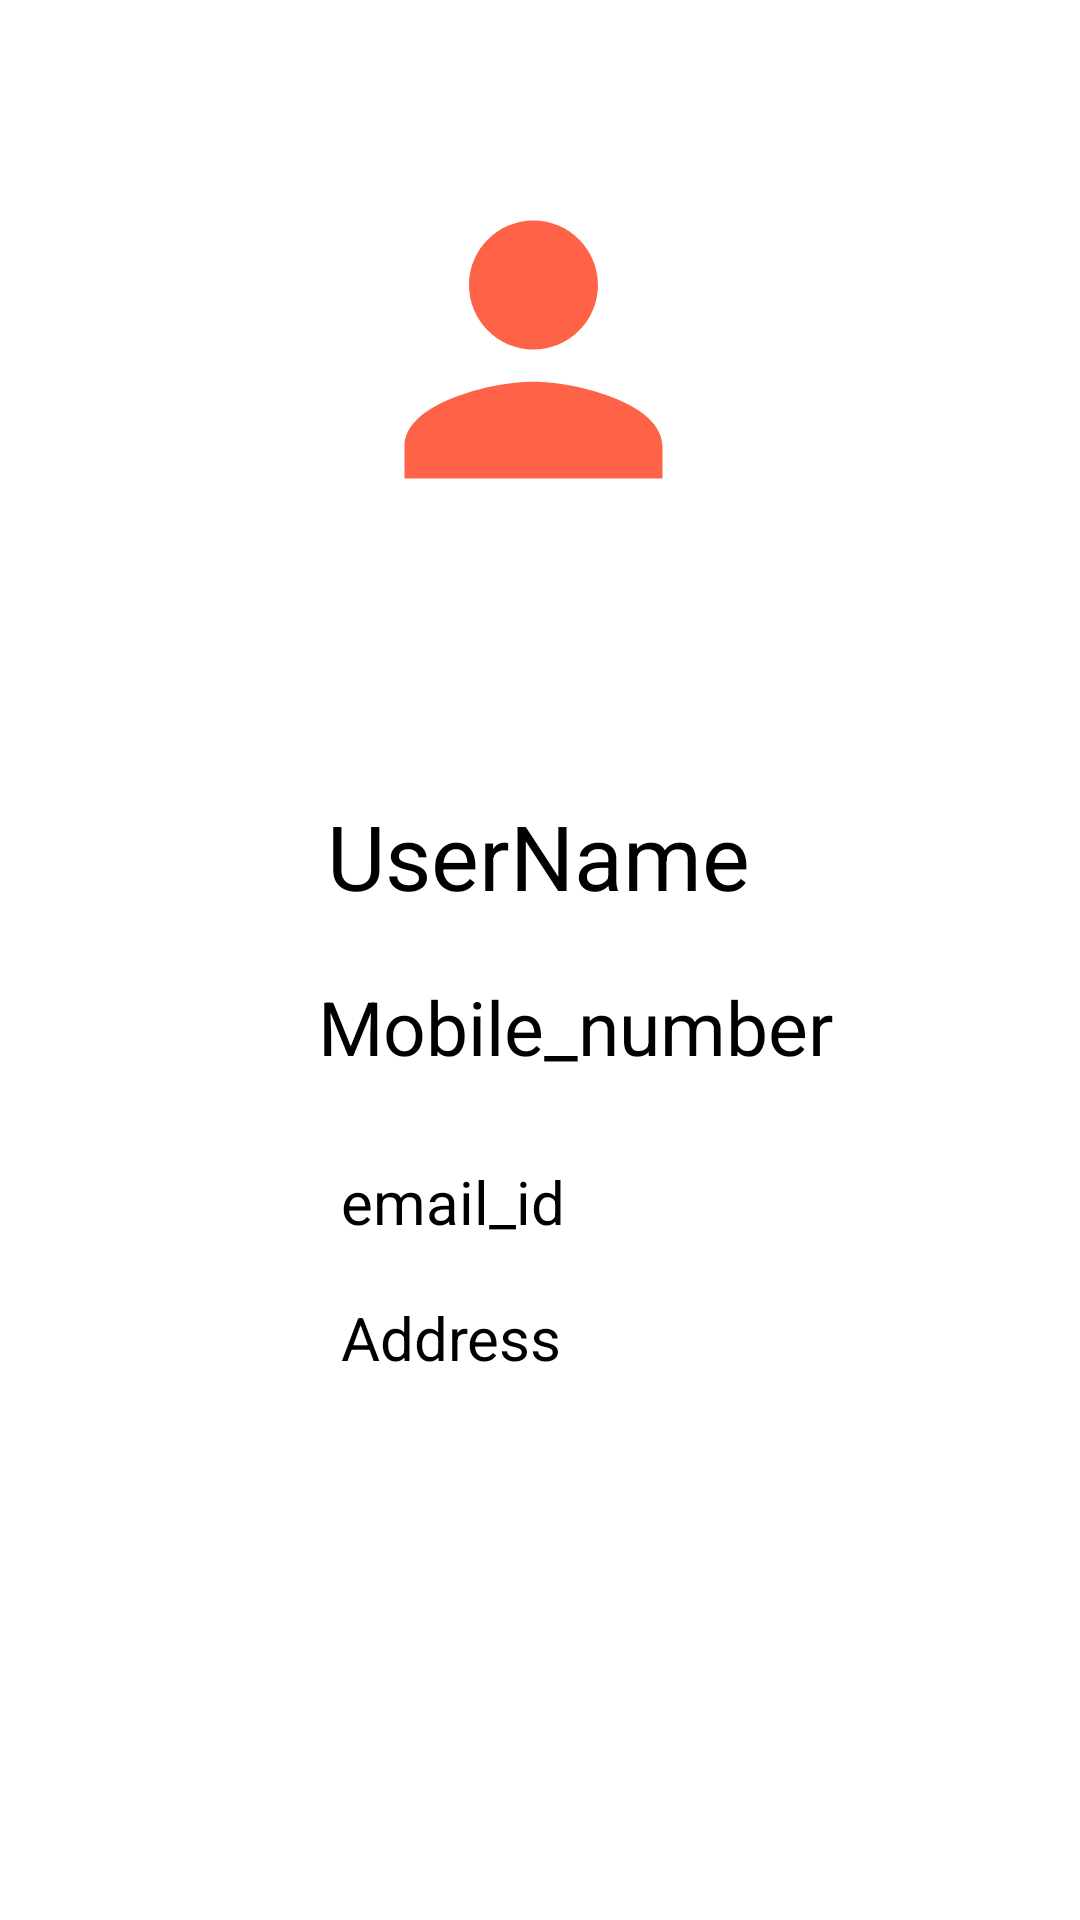

Point at icon controls on the screen. Image size 1080×1920, points as [x,y].
person: [533,349]
